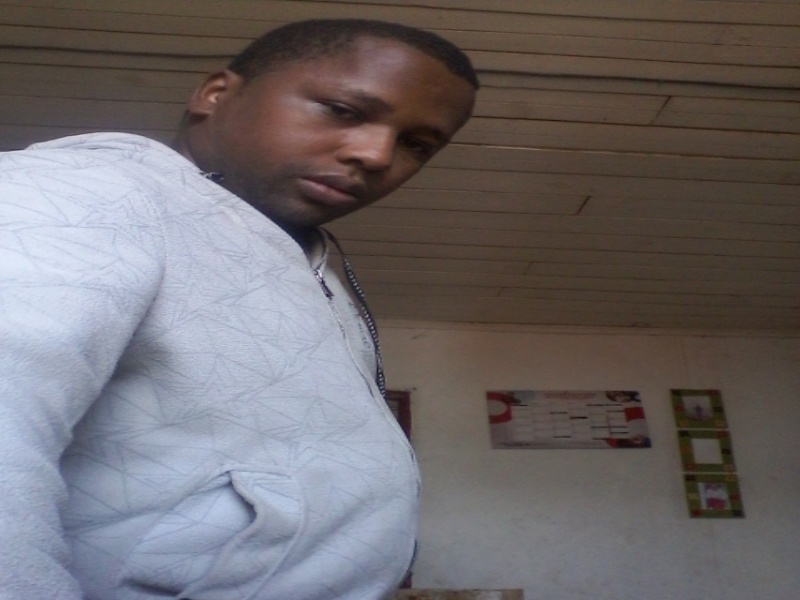TsisyArotava: (250, 36, 470, 242)
